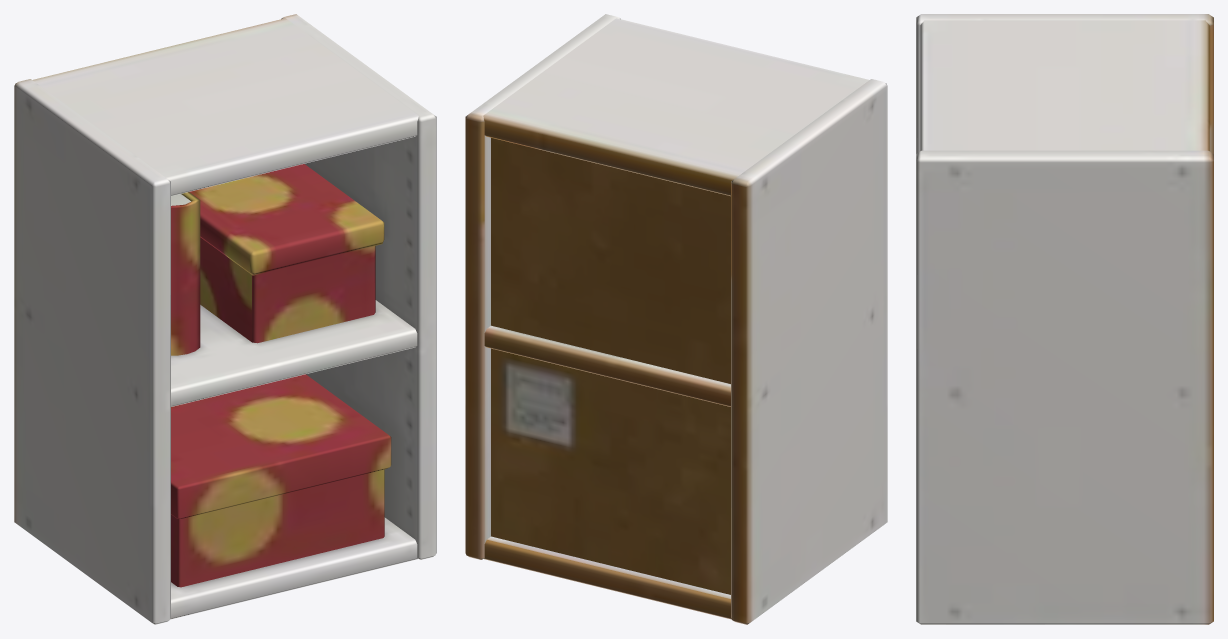
3 renders of one model, left to right at view 1: azimuth 30°, elevation 25°; view 2: azimuth 150°, elevation 25°; view 3: azimuth 270°, elevation 25°, orthographic. The views are drawn at different scales.
Size of the model in its own units: 8.28 by 12.31 by 7.1.
2 materials, 2 textured.
